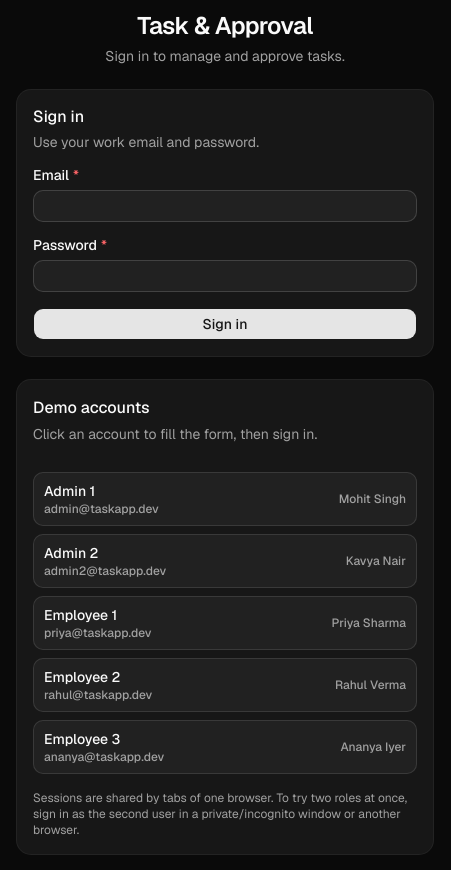
Scenario: LoginPage › shows the error and stays on /login when login fails
Step 1. Click the button "Admin 1 admin@taskapp.dev Mohit Singh" → (70, 491), box [33,472,417,526]
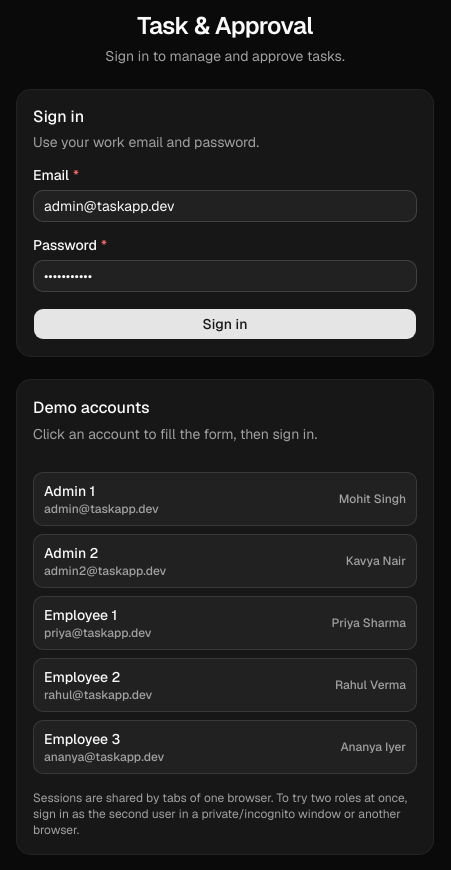
Step 2. Click the button "Sign in" → (225, 324), box [33,308,417,340]
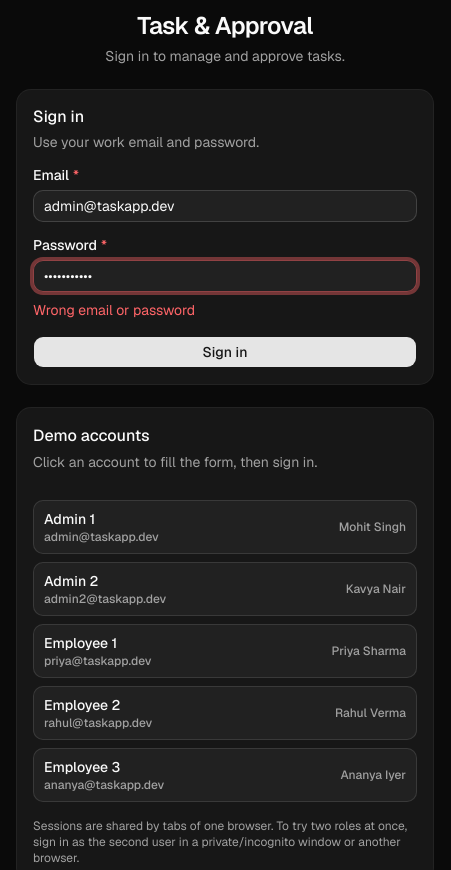
Expected: the text "Wrong email or password" is shown, [33,301,195,319]
